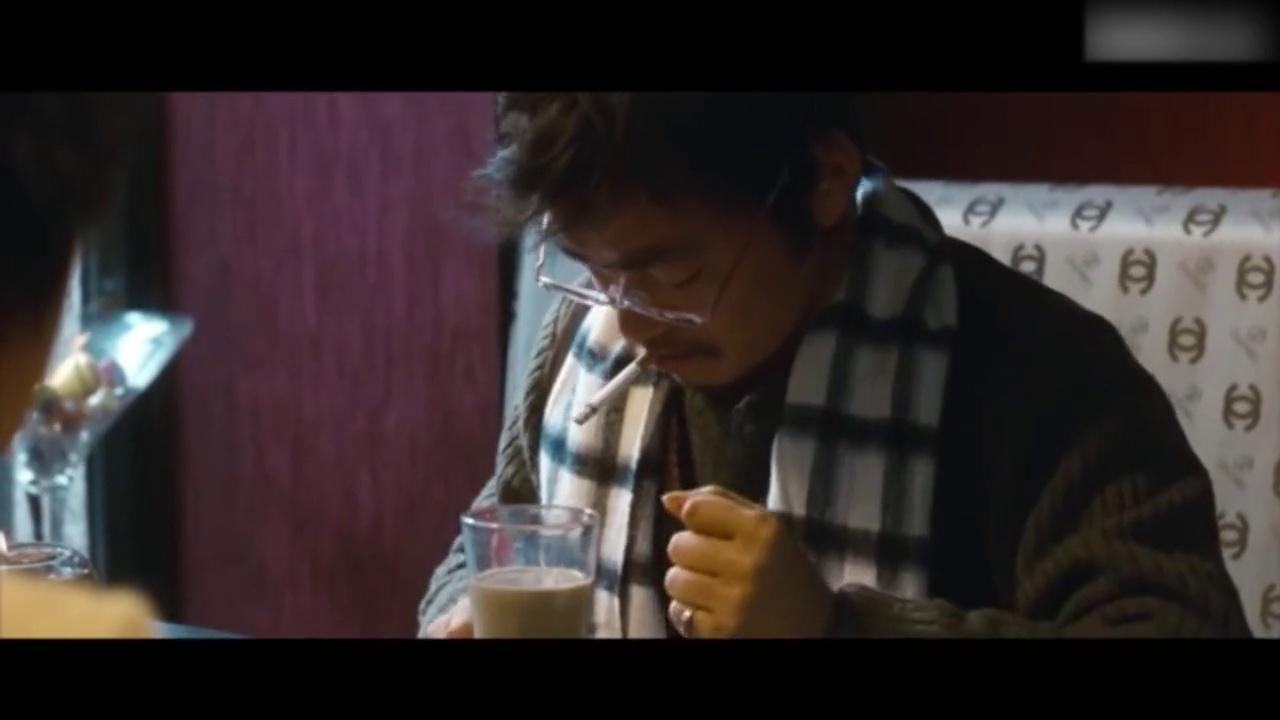smoke: (554, 338, 677, 432)
